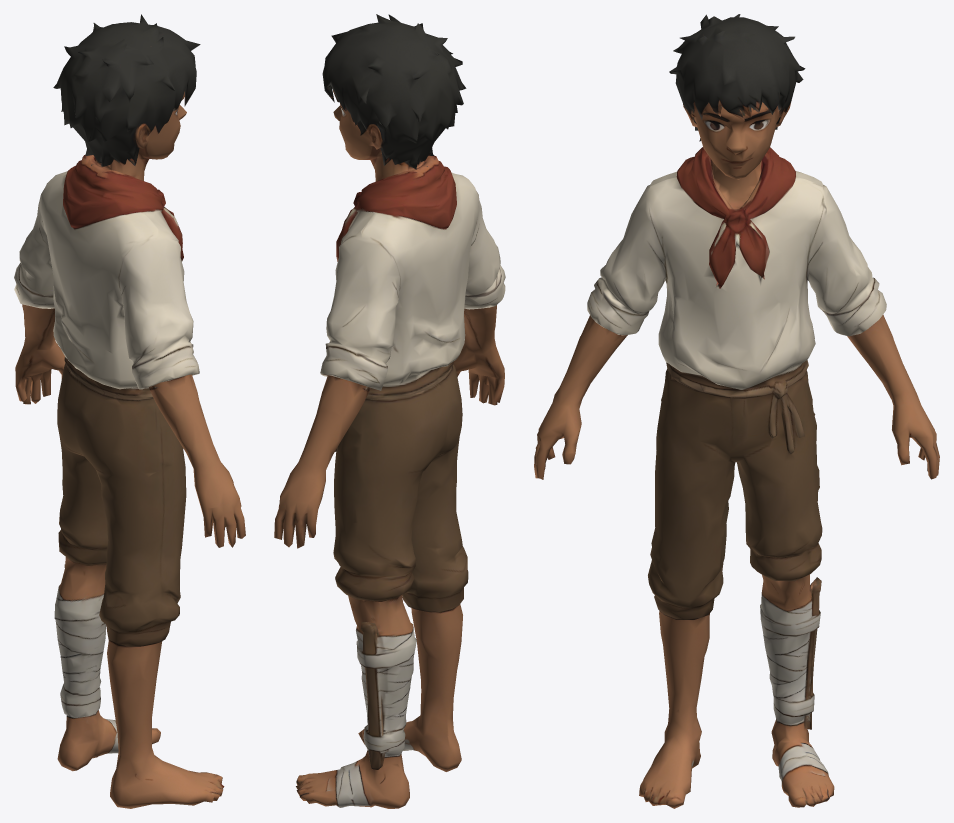
Rendered from 9d7a2f2c-97e5-4c1d-a66f-ab58fcfcd8fa_model_url.glb.
3 renders of one model, left to right at view 1: azimuth 30°, elevation 25°; view 2: azimuth 150°, elevation 25°; view 3: azimuth 270°, elevation 25°, orthographic.
Visible parts, largest first — view 1: tripo_node_9d7a2f2c-97e5-4c1d-a66f-ab58fcfcd8fa; view 2: tripo_node_9d7a2f2c-97e5-4c1d-a66f-ab58fcfcd8fa; view 3: tripo_node_9d7a2f2c-97e5-4c1d-a66f-ab58fcfcd8fa.
Boxes of the visible parts, x1,y1,x2,y2 form: tripo_node_9d7a2f2c-97e5-4c1d-a66f-ab58fcfcd8fa: [14, 14, 245, 808]; tripo_node_9d7a2f2c-97e5-4c1d-a66f-ab58fcfcd8fa: [274, 14, 505, 808]; tripo_node_9d7a2f2c-97e5-4c1d-a66f-ab58fcfcd8fa: [534, 14, 939, 808].
Bounding box in the file's own units: 0.1781 × 1 × 0.4828.
1 material, 1 textured.
